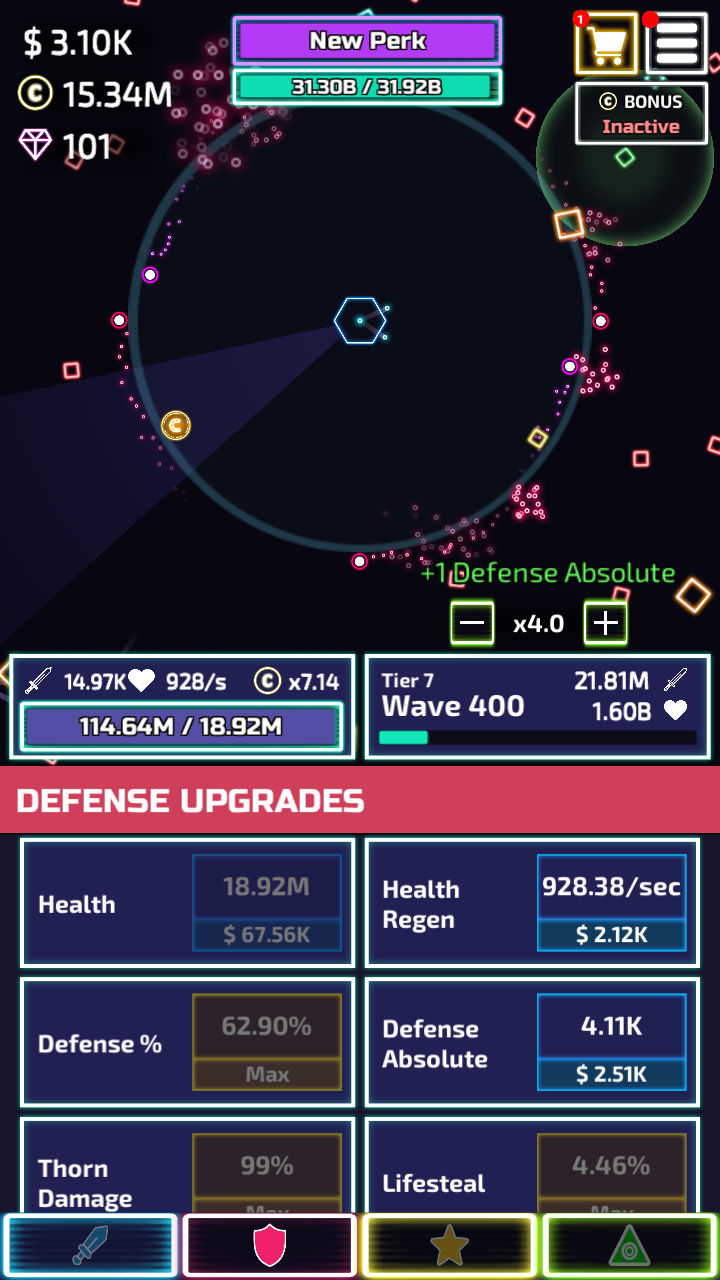B_Menu_Action_Required: (638, 7, 704, 72)
B_Menu_Closed: (574, 9, 706, 74)
B_New_Perk: (235, 21, 495, 61)
B_Shop_Action_Required: (571, 11, 643, 71)
B_Slot: (18, 837, 353, 960), (366, 839, 699, 961), (366, 978, 698, 1100), (22, 978, 353, 1100), (364, 1119, 696, 1208), (21, 1120, 349, 1210)
B_Slot_Button: (189, 857, 343, 954), (532, 856, 687, 951), (532, 997, 688, 1091), (188, 999, 343, 1091), (533, 1136, 688, 1209), (187, 1136, 341, 1208)
B_Slot_Label: (369, 1011, 503, 1079), (24, 1149, 145, 1213), (371, 869, 471, 937), (27, 1021, 173, 1067), (369, 1158, 501, 1203), (26, 881, 136, 927)
B_Slot_Maxed: (186, 992, 344, 1094), (532, 1135, 689, 1208), (186, 1136, 341, 1208)
B_Slot_Price: (208, 918, 321, 949), (560, 1057, 656, 1090), (562, 919, 657, 952)
B_Slot_TooExpensive: (187, 860, 338, 954)
B_Slot_Value: (538, 868, 683, 906), (550, 1144, 665, 1184), (206, 866, 321, 903), (205, 1008, 325, 1043), (556, 1006, 657, 1045), (212, 1148, 311, 1184)
B_Tab_Defense: (0, 769, 717, 834)
